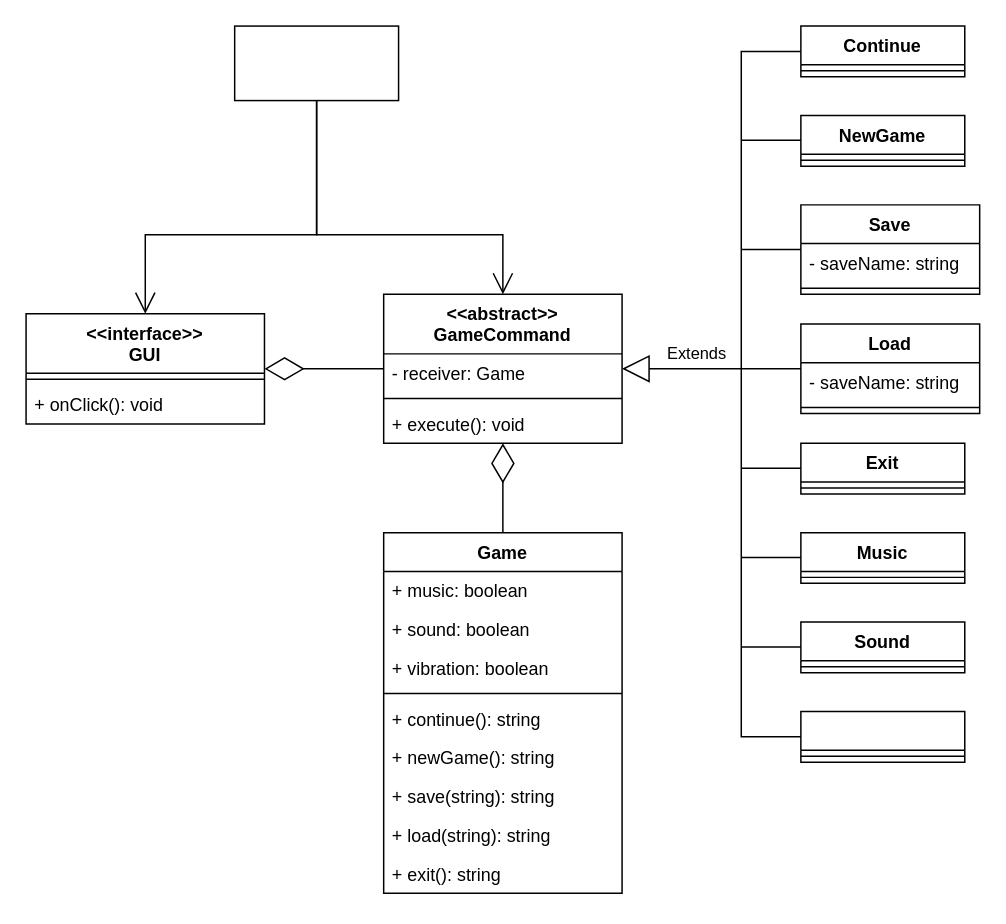
The diagram is 1006 pixels wide and 924 high, and some of its shapes have lost their labels. Here are the shapes that lost their labels. From the top down, the centre of each, then its label:
At point (316, 63): "Client".
At point (882, 736): "Vibration".
